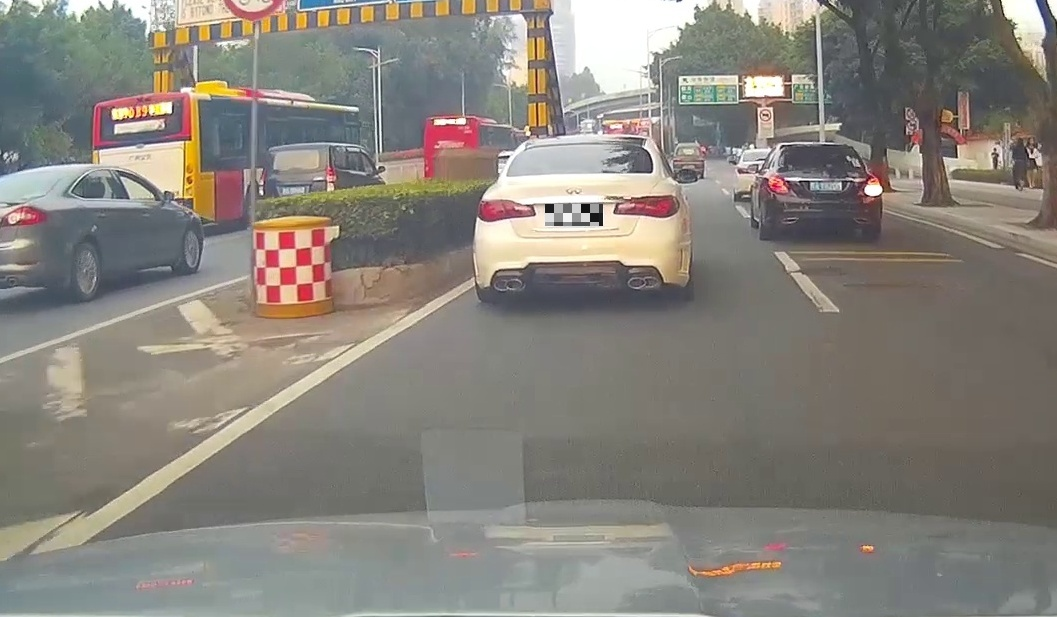L_light: (475, 199, 536, 223), (767, 174, 790, 195)
R_light: (612, 195, 680, 219), (863, 176, 881, 196)
T_light: (567, 145, 592, 149), (811, 147, 828, 150)
day-no: (470, 133, 692, 301)
day-right: (760, 141, 882, 240)
plate_1: (545, 204, 603, 226)
